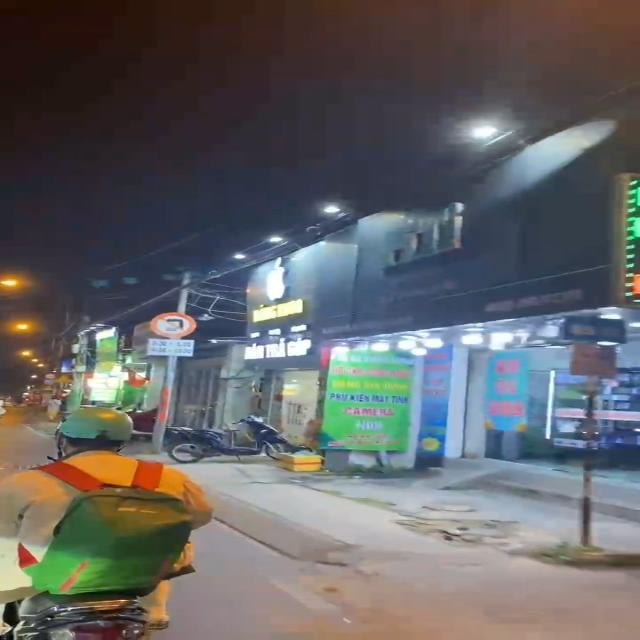123a-cam-re-trai: (151, 312, 197, 336)
